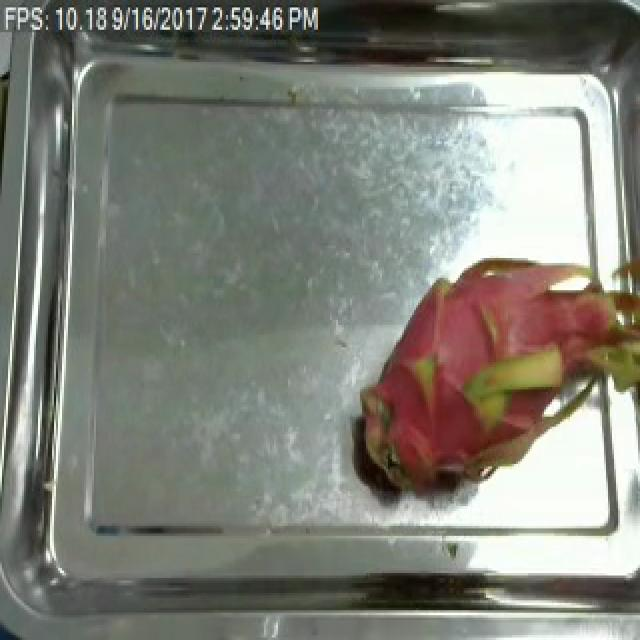fruit: (348, 226, 640, 516)
